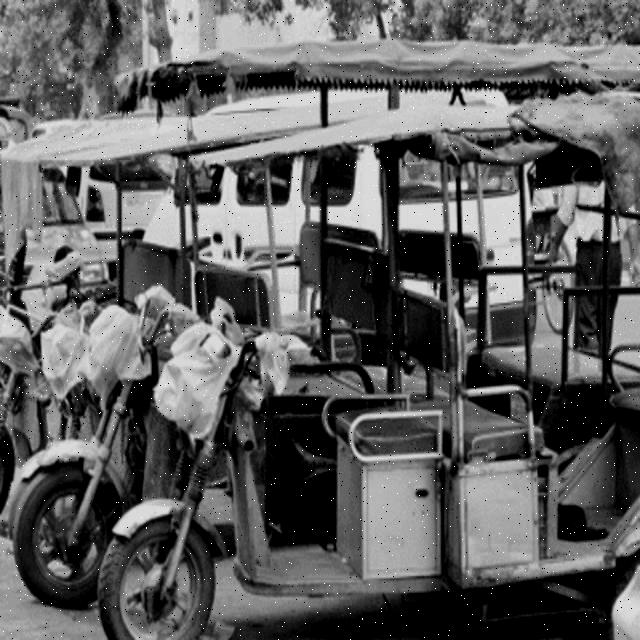Toto: (123, 61, 640, 639)
